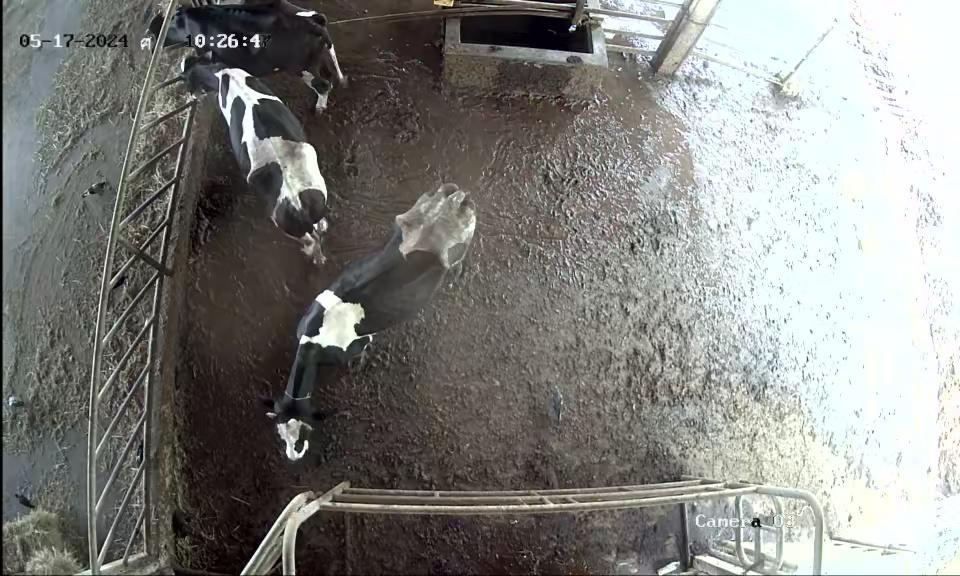eat: (125, 2, 237, 65)
stand: (238, 184, 493, 467), (175, 49, 345, 275)
